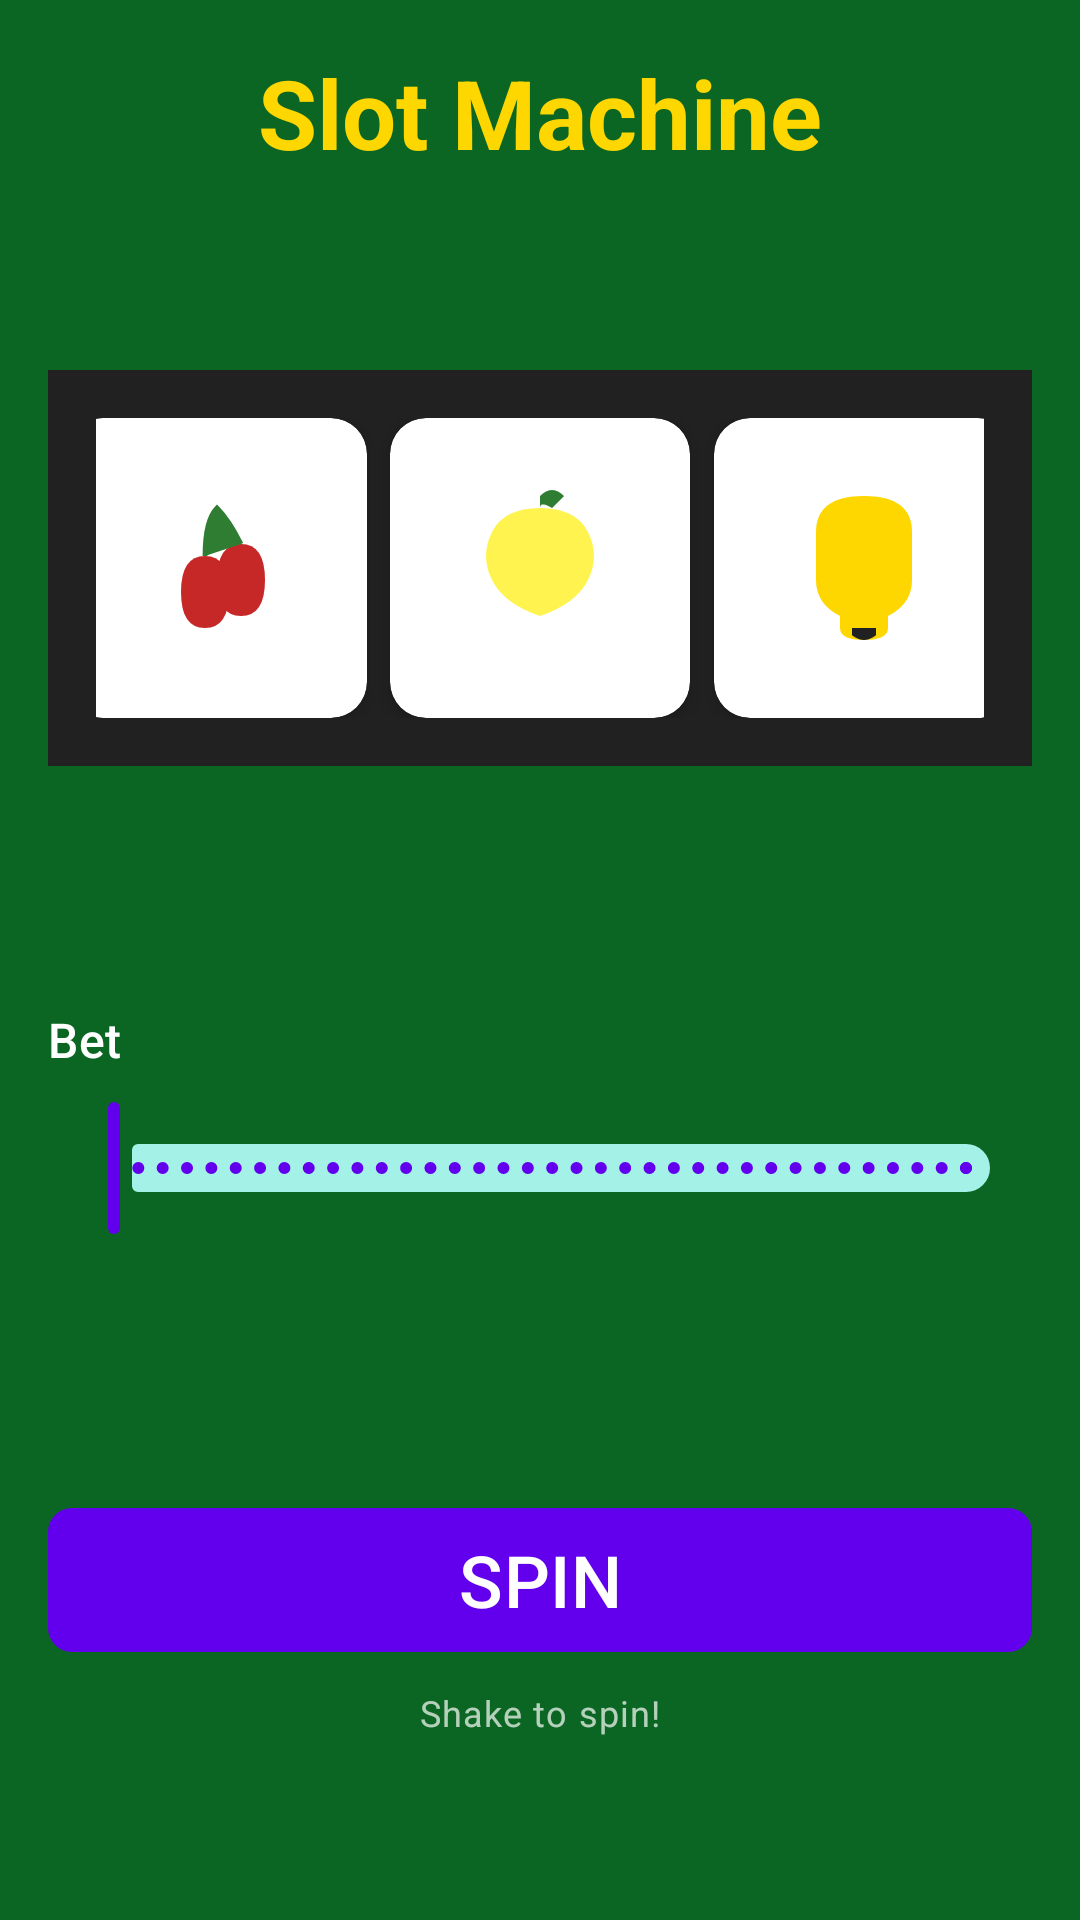

Named icons in this screenshot (1080×1920) and their centers, (x=x, y=y):
slot bell: (x=864, y=568)
slot cherry: (x=223, y=566)
slot lemon: (x=540, y=553)
